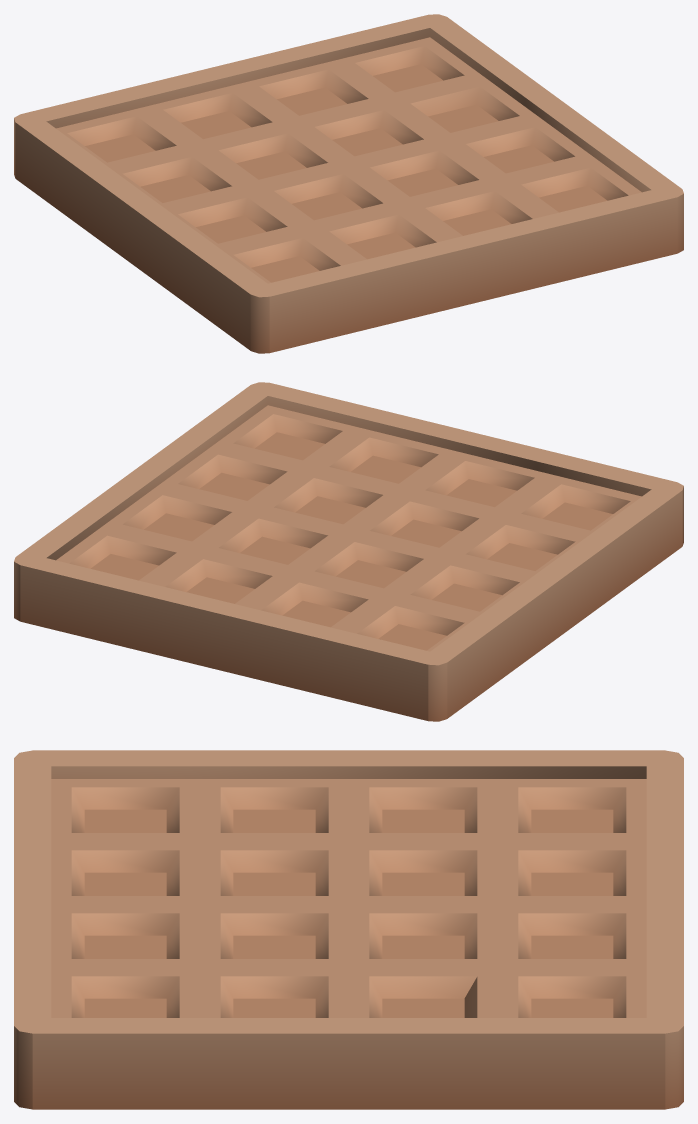
The model's file is waffle.glb.
3 views of the same model, one above another, from view 1: azimuth 30°, elevation 25°; view 2: azimuth 150°, elevation 25°; view 3: azimuth 270°, elevation 25° (orthographic). The views are drawn at different scales.
Visible parts, largest first — view 1: waffle; view 2: waffle; view 3: waffle.
Part boxes in pixels (x1,y1,x2,y2): waffle: (14, 14, 683, 353); waffle: (14, 382, 683, 721); waffle: (14, 750, 683, 1109).
Size of the model in its own units: 0.3204 by 0.04 by 0.3204.
